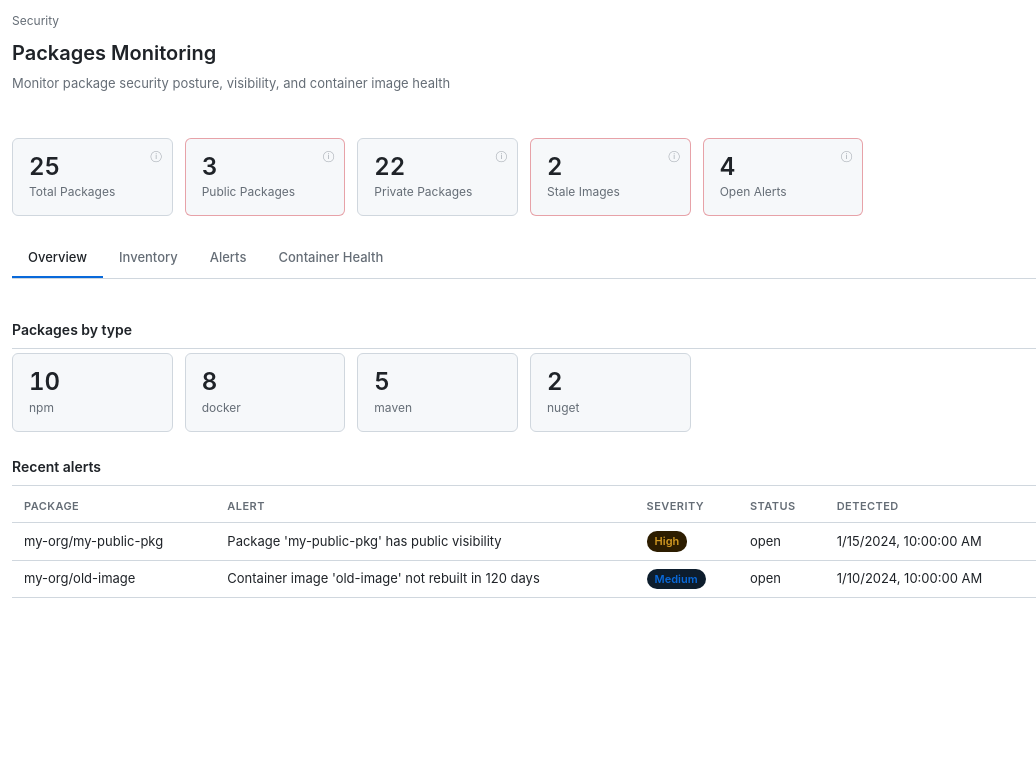
Test: PackagesPage › switches to alerts tab
Click the tab "Alerts": x=228, y=259 [194,240,262,278]
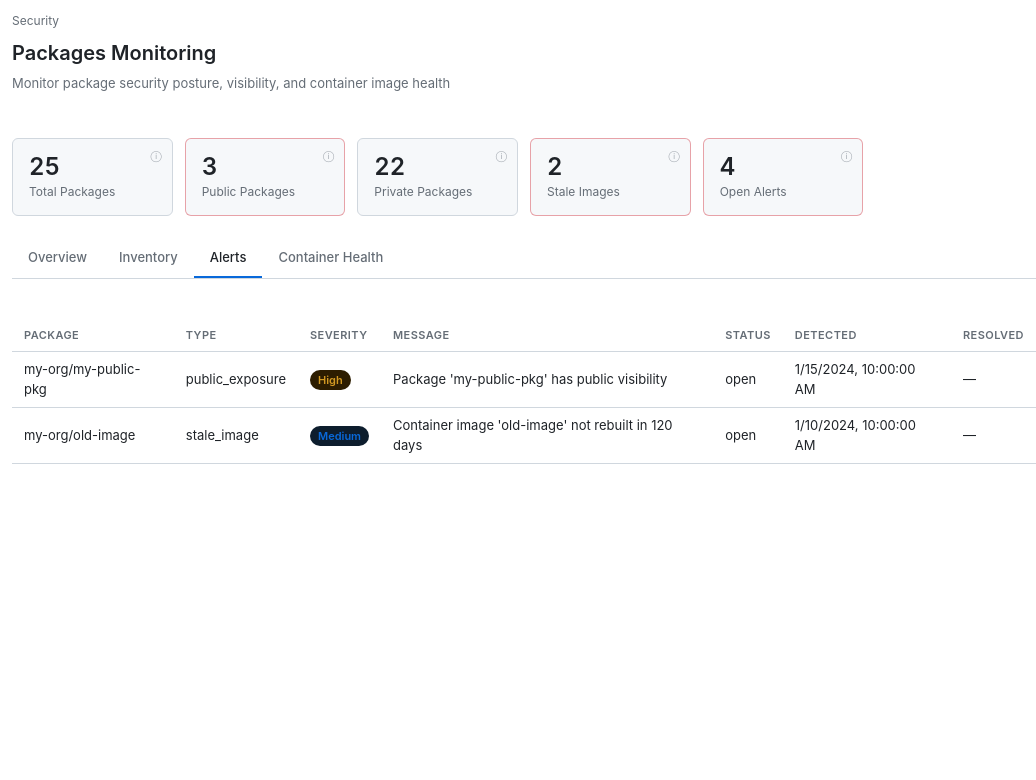
Expected: the text "public_exposure" is shown, [174,352,298,408]
Expected: the text "stale_image" is shown, [174,408,298,464]
